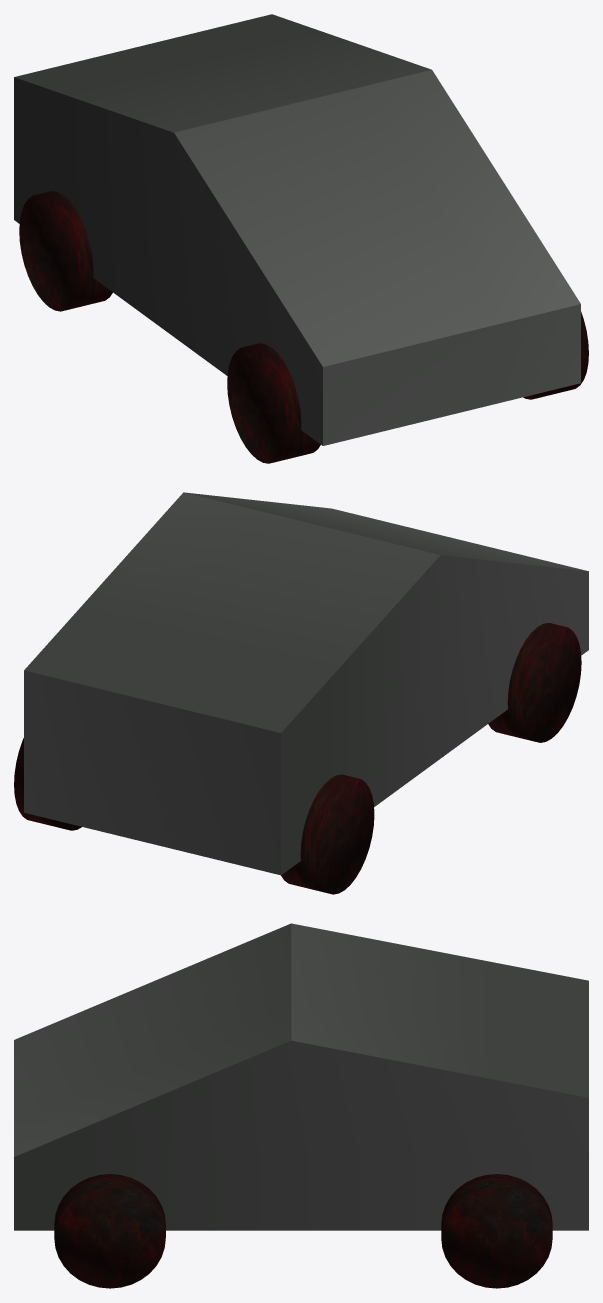
Rendered from truck.obj.
The picture shows the model from 3 angles, top to bottom: view 1: azimuth 30°, elevation 25°; view 2: azimuth 150°, elevation 25°; view 3: azimuth 270°, elevation 25°; orthographic projection. The views are drawn at different scales.
Visible parts, largest first — view 1: Cube_Cube.001, Cylinder.001, Cylinder.002, Cylinder.003; view 2: Cube_Cube.001, Cylinder.002, Cylinder.001, Cylinder; view 3: Cube_Cube.001, Cylinder, Cylinder.003.
Boxes of the visible parts, bbox=[...] form: Cube_Cube.001: bbox=[14, 14, 580, 445]; Cylinder.001: bbox=[19, 191, 112, 311]; Cylinder.002: bbox=[227, 343, 320, 463]; Cylinder.003: bbox=[523, 311, 588, 399]; Cube_Cube.001: bbox=[24, 492, 588, 875]; Cylinder.002: bbox=[488, 623, 581, 742]; Cylinder.001: bbox=[281, 774, 374, 894]; Cylinder: bbox=[14, 738, 81, 830]; Cube_Cube.001: bbox=[14, 923, 588, 1230]; Cylinder: bbox=[441, 1174, 552, 1288]; Cylinder.003: bbox=[54, 1174, 165, 1288].
Bounding box in the file's own units: 2.34 × 1.87 × 4.15.
5 materials, 5 textured.
